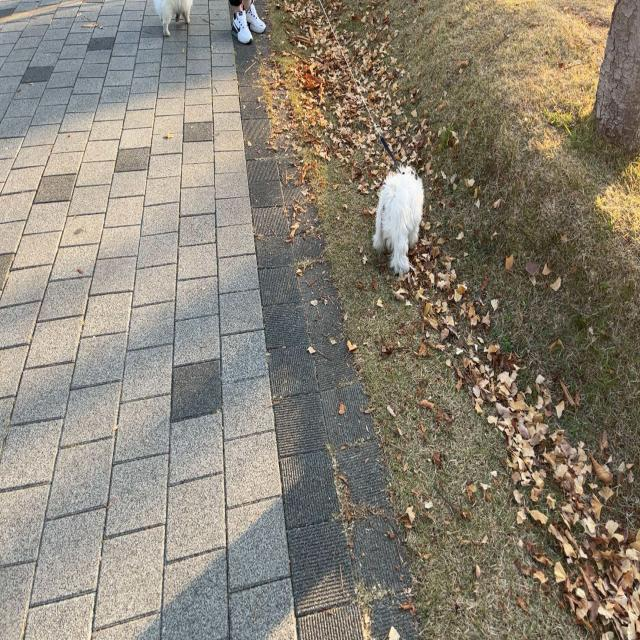Dog: (372, 164, 424, 276), (155, 0, 194, 37)
